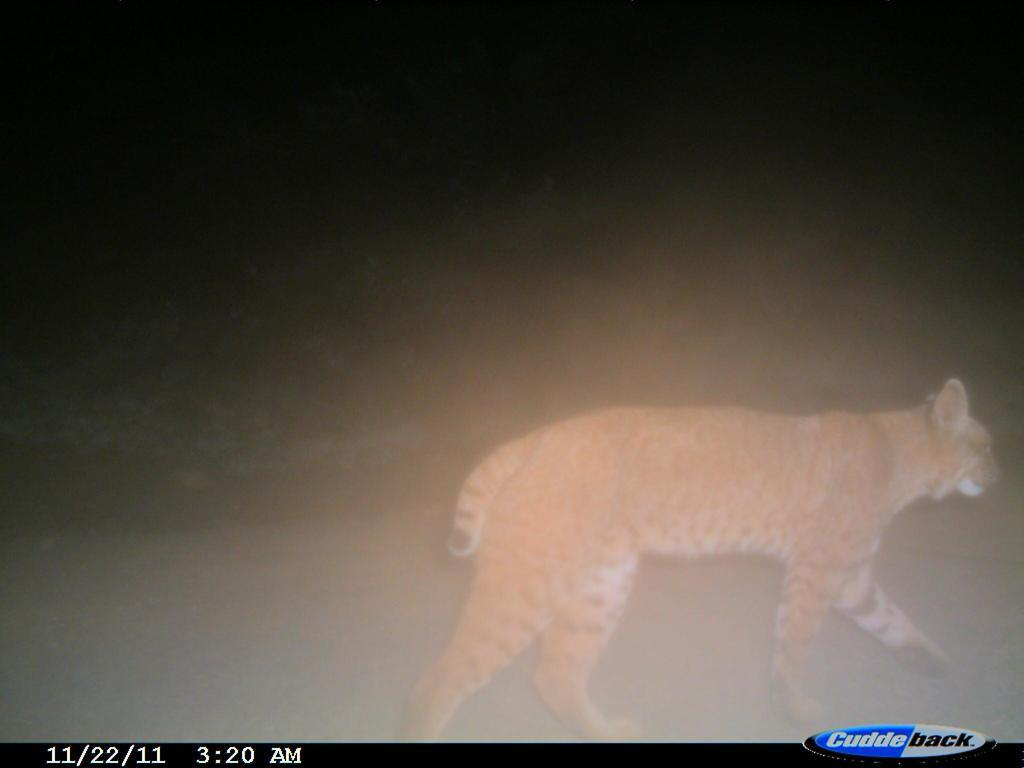bobcat: (400, 364, 1010, 740)
